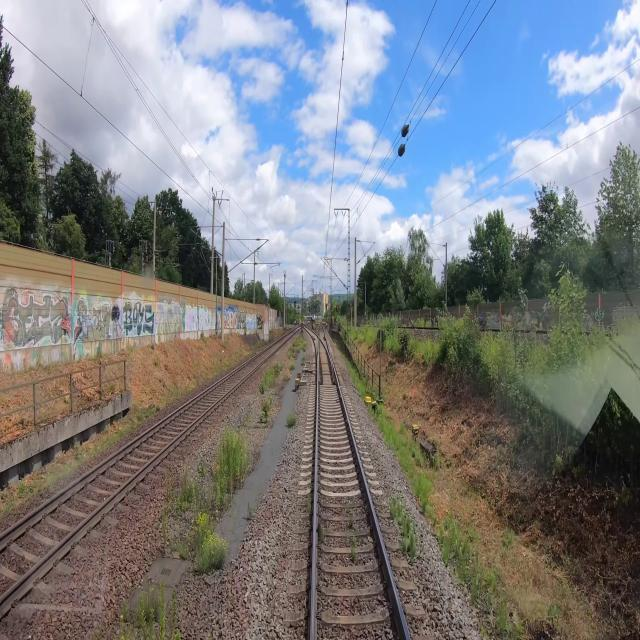Plant: (114, 580, 182, 639), (180, 510, 227, 571), (161, 475, 201, 545), (214, 428, 249, 505), (386, 493, 416, 551), (260, 360, 284, 397), (287, 333, 306, 371), (259, 397, 272, 425), (347, 539, 359, 561), (286, 411, 298, 427), (306, 491, 313, 511), (198, 465, 207, 477), (347, 518, 356, 529), (314, 325, 316, 329)
